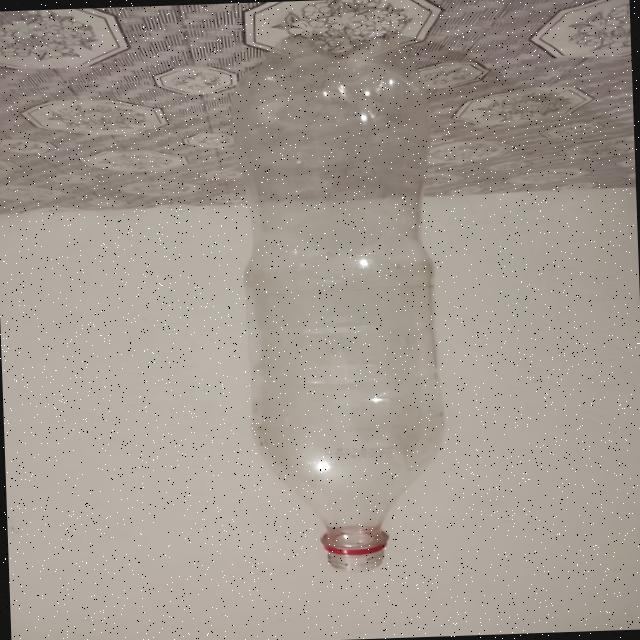bottle: (236, 27, 470, 577)
